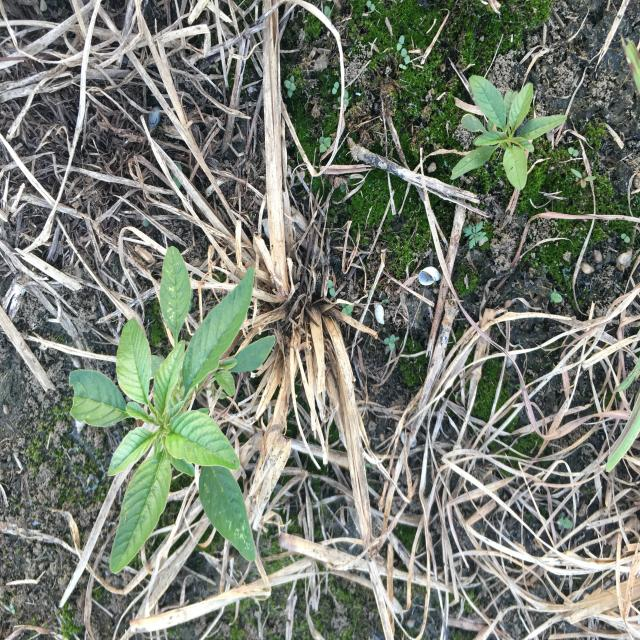Waterhemp: (67, 243, 277, 578), (447, 72, 569, 194)
